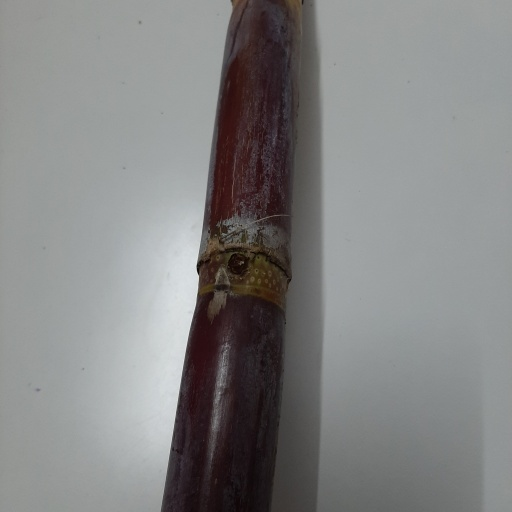Damage_Bud: (226, 253, 249, 276)
